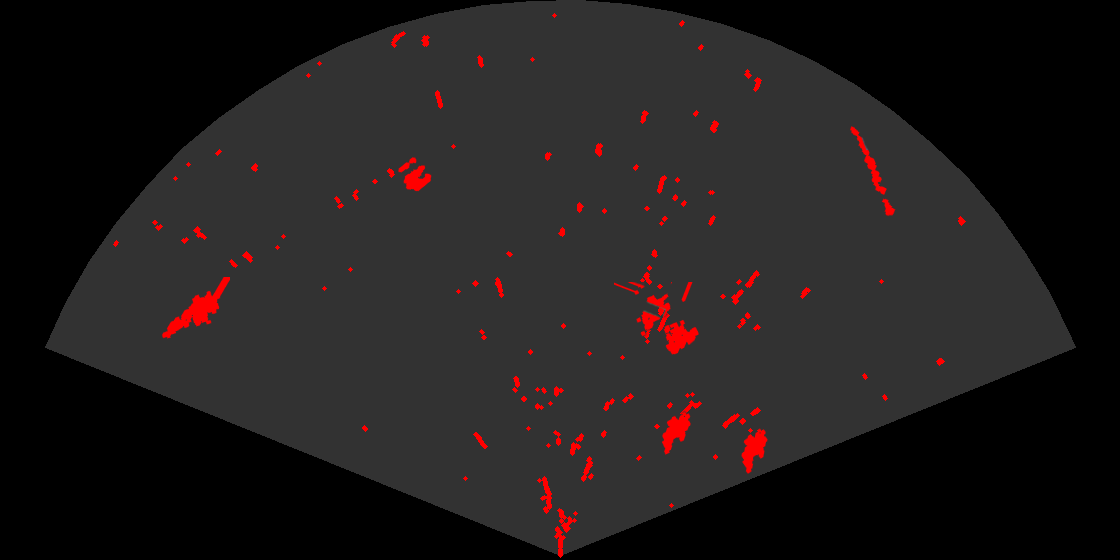AUV: (660, 410, 692, 456), (740, 427, 769, 475)
ball: (397, 156, 433, 193)
cage: (614, 282, 700, 356)
chain: (849, 125, 897, 218)
frogman: (160, 277, 230, 340)
